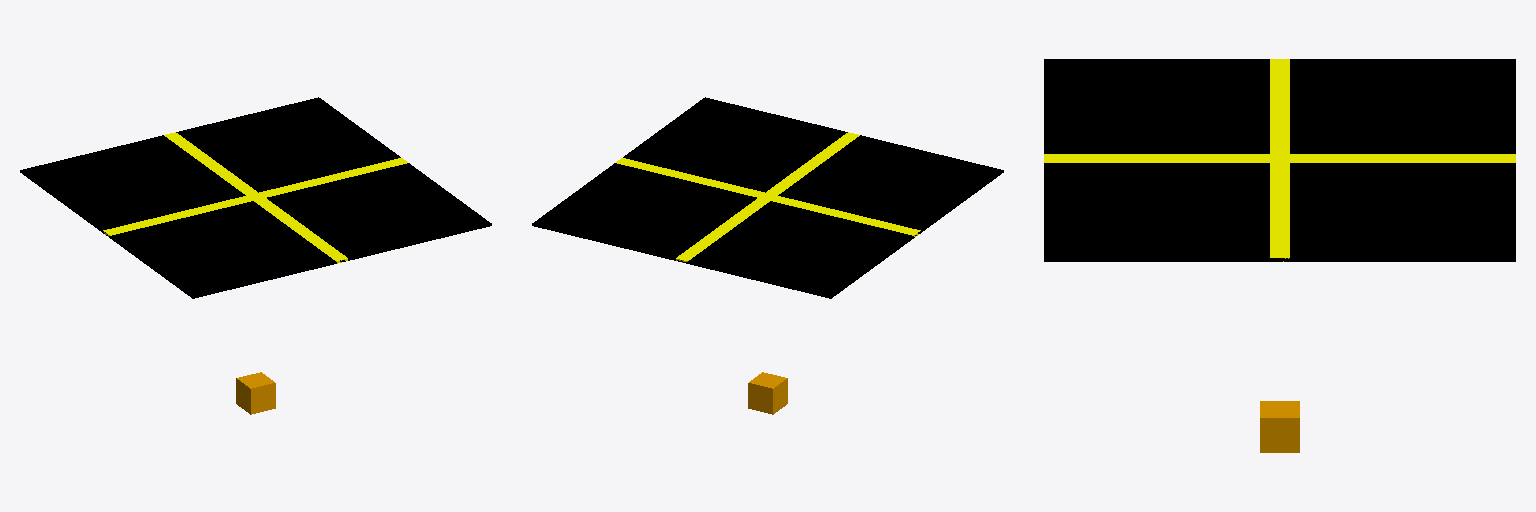
robot.urdf — platform:
<?xml version="1.0"?>
<robot name="platform">
    <link name="base_link">
        <visual>
            <geometry>
                <box size="0.1 0.1 0.1" />
            </geometry>
        </visual>
    </link>
    <link name="helipad_base_link">
        <visual>
            <geometry>
                <box size="0.001 0.001 0.001" />
            </geometry>
        </visual>
    </link>
    <link name="helipad_xrot_link">
        <visual>
            <geometry>
                <box size="0.001 0.001 0.001" />
            </geometry>
        </visual>
    </link>
    <link name="helipad_yrot_link">
        <inertial>
            <mass value="5" />
            <origin xyz="0 0 0" rpy="0 0 0" />
            <inertia ixx="1" ixy="0" ixz="0" iyy="1" iyz="0" izz="2" />
          </inertial>
        <visual>
            <geometry>
                 <box size="1.2 1.2 0.01"/>
            </geometry>
            <material name="black">
                <color rgba="0 0 0 1"/>
            </material>
        </visual>
        <collision>
            <geometry>
                 <box size="1.2 1.2 0.01"/>
            </geometry>
        </collision>
    </link>
    <link name="horizontal">
        <visual>
            <geometry>
                 <box size="1.2 0.05 0.01"/>
            </geometry>
            <material name="yellow">
                <color rgba="255 255 0 1"/>
            </material>
        </visual>
    </link>
    <link name="vertical">
        <visual>
            <geometry>
                 <box size="0.05 1.2 0.01"/>
            </geometry>
            <material name="yellow">
                <color rgba="255 255 0 1"/>
            </material>
        </visual>
    </link>
    <joint name="base_to_helipad_linear" type="prismatic">
        <parent link="base_link" />
        <child link="helipad_base_link" />
        <origin xyz="0.0 0.0 0.25" />
        <axis xyz="0.0 0.0 1.0" />
        <limit lower="-0.5" upper="0.5" effort="100" velocity="100"/>
        <dynamics damping="50"/>
    </joint>
    <joint name="base_to_helipad_xrot" type="revolute">
        <parent link="helipad_base_link" />
        <child link="helipad_xrot_link" />
        <origin xyz="0.0 0.0 0.25" />
        <axis xyz="1.0 0.0 0.0" />
        <limit lower="-0.35" upper="0.35" effort="100" velocity="100"/>
        <dynamics damping="70"/>
    </joint>
    <joint name="base_to_helipad_yrot" type="revolute">
        <parent link="helipad_xrot_link" />
        <child link="helipad_yrot_link" />
        <origin xyz="0.0 0.0 0.25" />
        <axis xyz="0.0 1.0 0.0" />
        <limit lower="-0.35" upper="0.35" effort="100" velocity="100"/>
        <dynamics damping="70"/>
    </joint>
    <joint name="helipad_to_horizontal" type="fixed">
        <parent link="helipad_yrot_link" />
        <child link="horizontal" />
        <origin xyz="0.0 0.0 0.0001" />
    </joint>
    <joint name="helipad_to_vertical" type="fixed">
        <parent link="helipad_yrot_link" />
        <child link="vertical" />
        <origin xyz="0.0 0.0 0.0001" />
    </joint>
</robot>

--- Render facts (derived) ---
3 views of the same robot in one strip: view 1: azimuth 30°, elevation 25°; view 2: azimuth 150°, elevation 25°; view 3: azimuth 270°, elevation 25° (orthographic).
Robot: platform — 6 links, 5 joints (2 revolute, 1 prismatic, 2 fixed); root link base_link; default pose: every joint at zero.
Visible links, largest first — view 1: helipad_yrot_link, horizontal, vertical, base_link; view 2: helipad_yrot_link, vertical, horizontal, base_link; view 3: helipad_yrot_link, vertical, horizontal, base_link.
Link boxes in pixels (x1,y1,x2,y2): helipad_yrot_link: [20, 97, 491, 298]; horizontal: [103, 158, 407, 236]; vertical: [164, 132, 347, 263]; base_link: [236, 372, 275, 414]; helipad_yrot_link: [532, 97, 1003, 298]; vertical: [676, 132, 859, 262]; horizontal: [616, 158, 920, 236]; base_link: [748, 372, 787, 414]; helipad_yrot_link: [1044, 59, 1515, 261]; vertical: [1044, 154, 1515, 162]; horizontal: [1270, 59, 1289, 261]; base_link: [1260, 401, 1299, 452].
Bounding box of the posed robot: 1.2 × 1.2 × 0.8051 m (x, y, z).
Geometry: primitives only (box / cylinder / sphere), no mesh files.